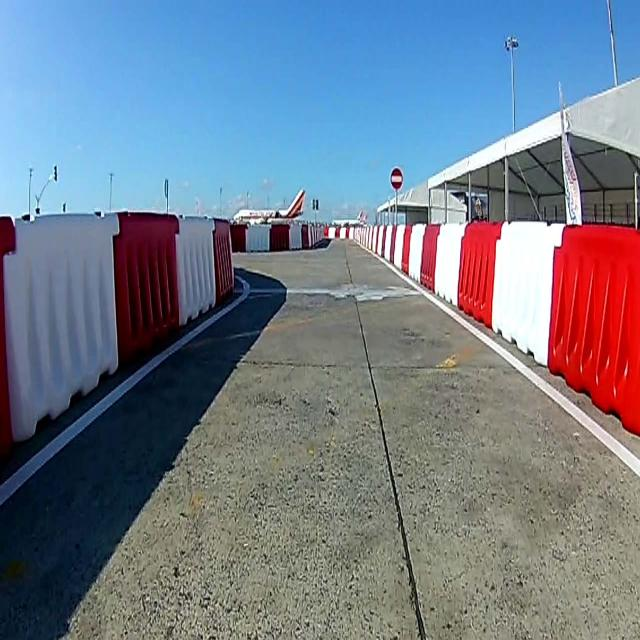girisyok: (391, 167, 404, 191)
